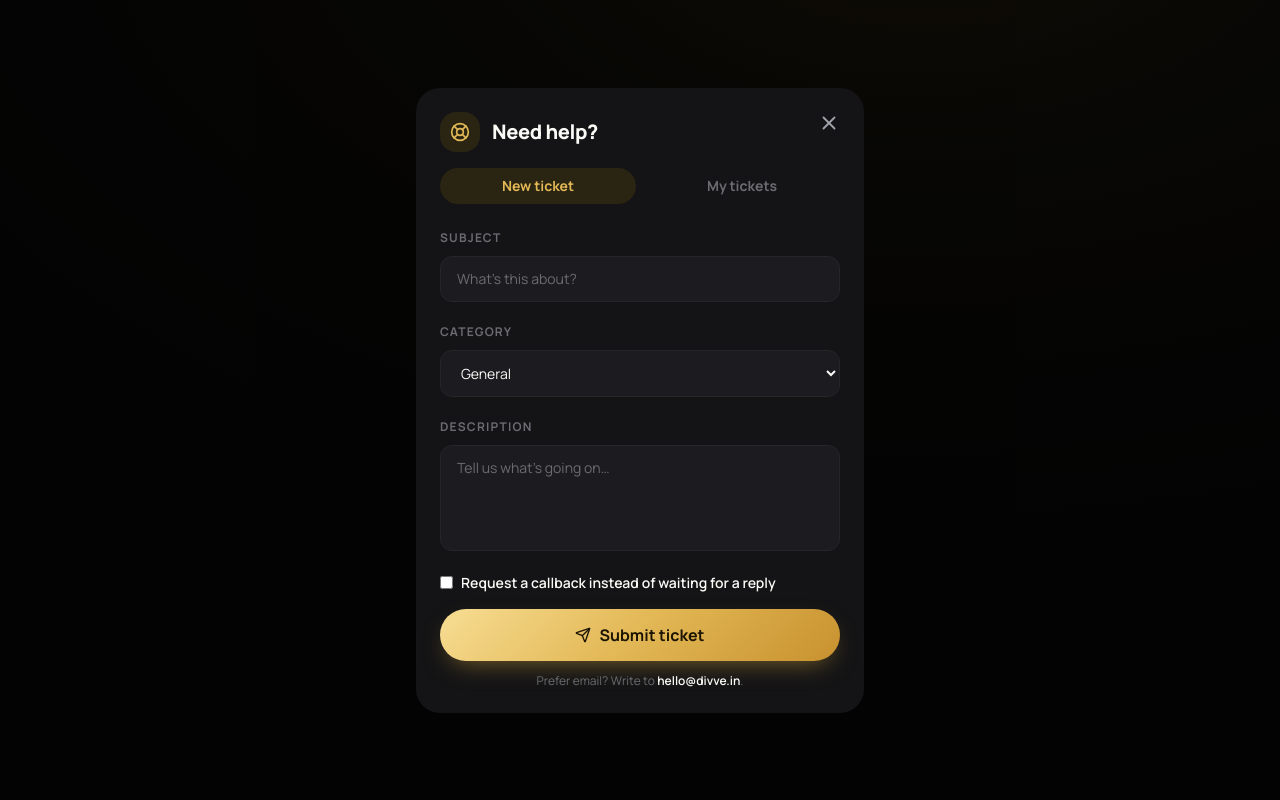
Test case: SupportCard › submits a new ticket and shows the confirmation with its refNo
Type "Can't connect my broker" into the field with test id "support-subject-input". click: coordinates (640, 278)
box: left=440, top=256, right=840, bottom=302
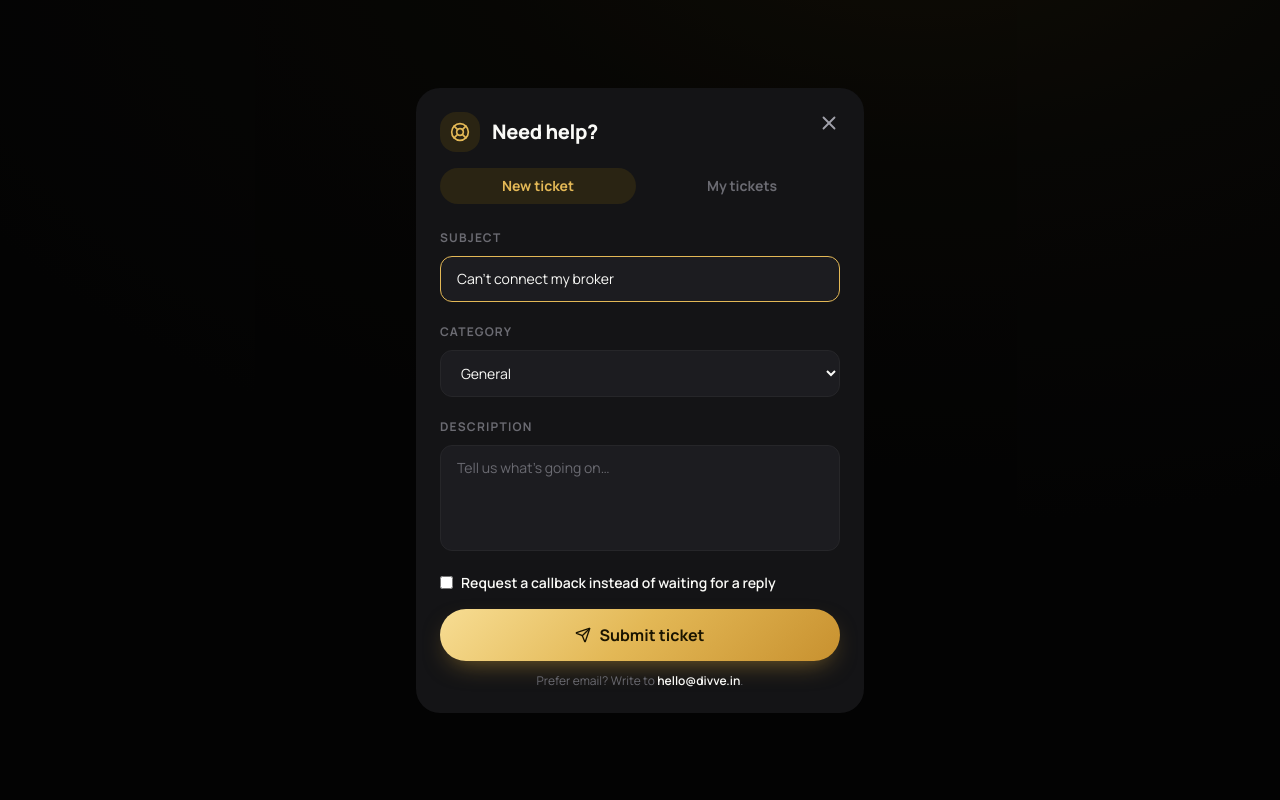
Type "It just spins forever." into the text box with test id "support-description-input". click: coordinates (640, 498)
box: left=440, top=444, right=840, bottom=550
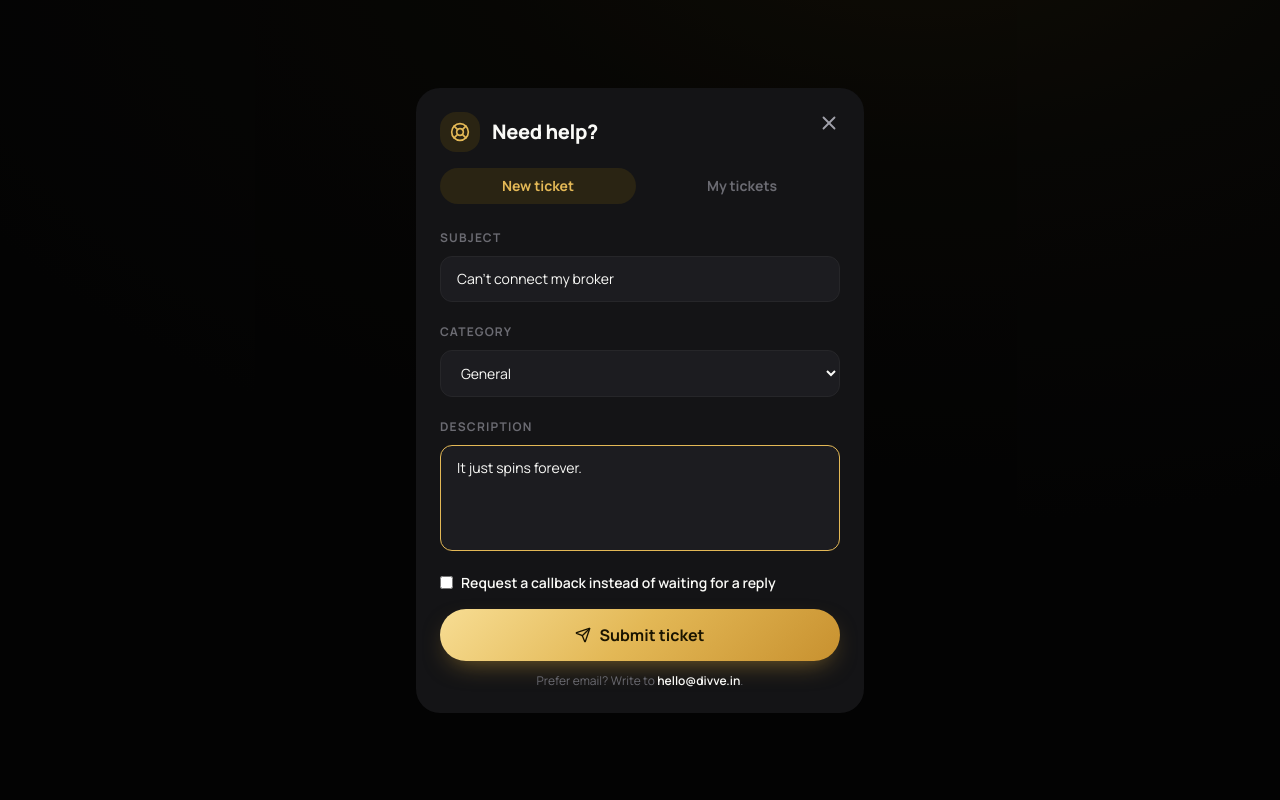
Click the button with test id "support-submit-btn". click: coordinates (640, 634)
box: left=440, top=608, right=840, bottom=660
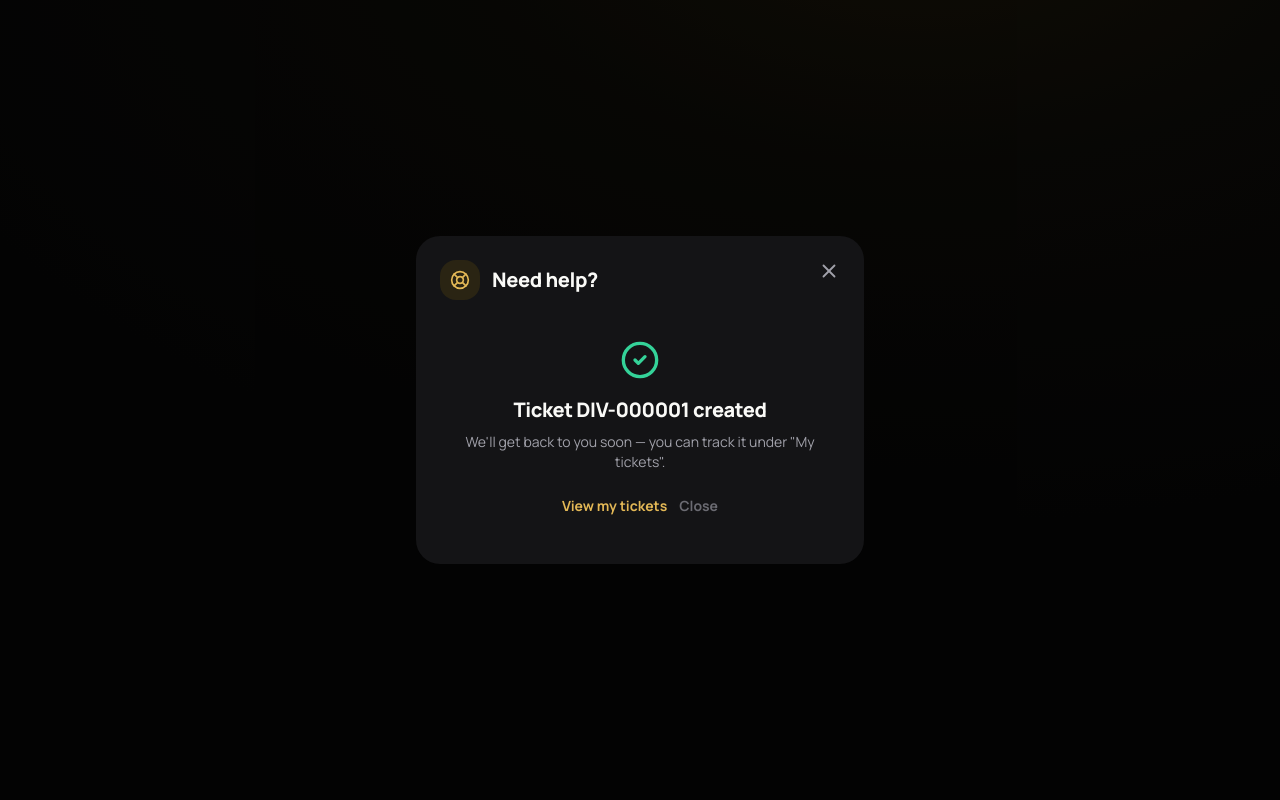
Now the element with test id "support-ticket-success" is shown, box left=440, top=316, right=840, bottom=540
Now the heading "Ticket DIV-000001 created" is shown, box left=514, top=396, right=767, bottom=423
